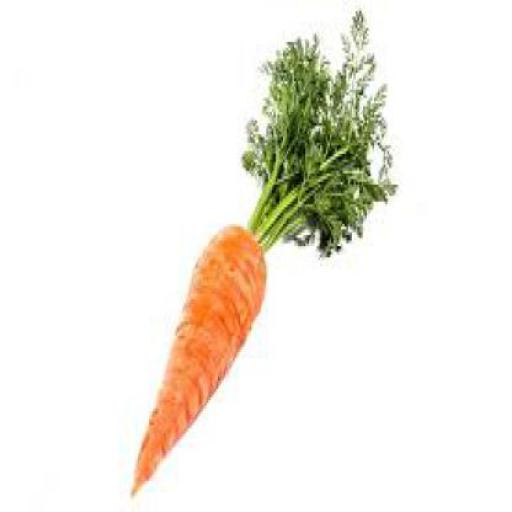biodegradable: (240, 6, 395, 252), (130, 224, 264, 495)
